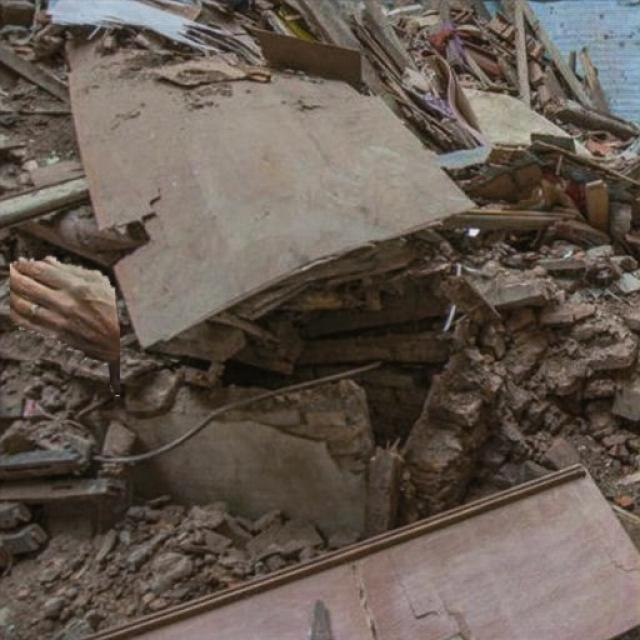Person in Rubble: (10, 256, 119, 395)
